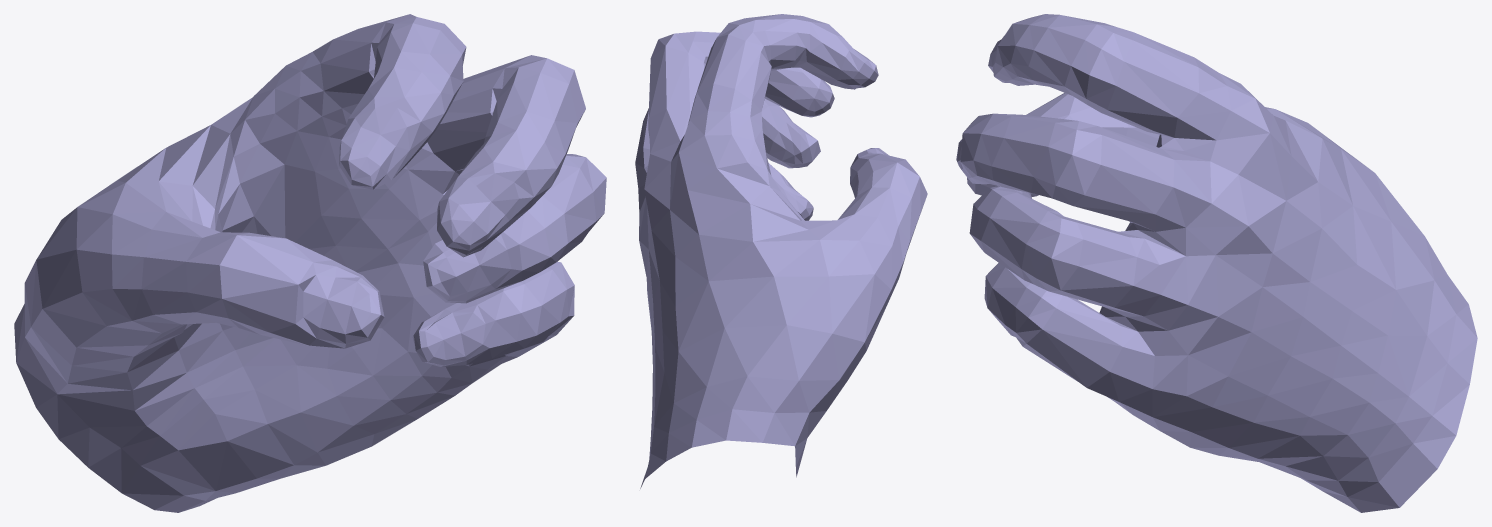
File: hand_0137.glb
3 views of the same model, side by side, from view 1: azimuth 30°, elevation 25°; view 2: azimuth 150°, elevation 25°; view 3: azimuth 270°, elevation 25° (orthographic). The views are drawn at different scales.
Visible parts, largest first — view 1: world; view 2: world; view 3: world.
Part boxes in pixels (box(x1,y1,x2,y2)): world: box(14, 14, 606, 512); world: box(635, 14, 927, 488); world: box(956, 14, 1477, 512).
Size of the model in its own units: 0.1028 by 0.1289 by 0.1196.
